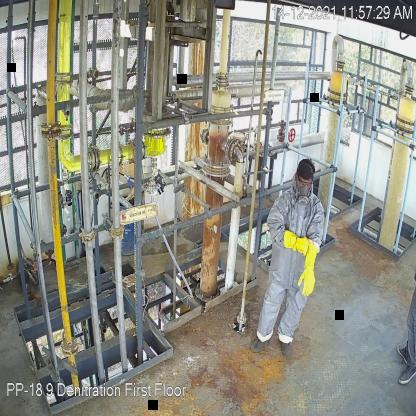goggles: (296, 178, 314, 188)
mask: (296, 184, 312, 206)
